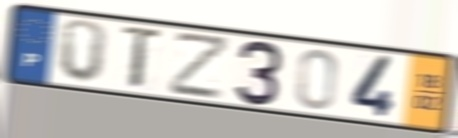0: (58, 18, 109, 86), (293, 47, 340, 112)
3: (231, 38, 286, 109)
4: (348, 52, 401, 122)
T: (120, 23, 166, 92)
Z: (168, 32, 233, 101)
